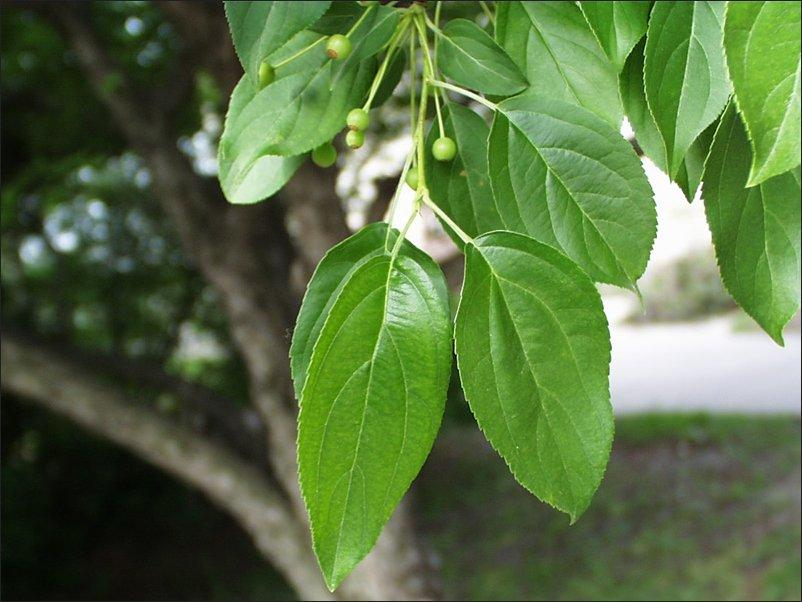Apple leaf: (282, 216, 455, 602), (449, 227, 628, 549), (202, 7, 419, 220), (484, 95, 669, 303), (681, 81, 801, 367)
